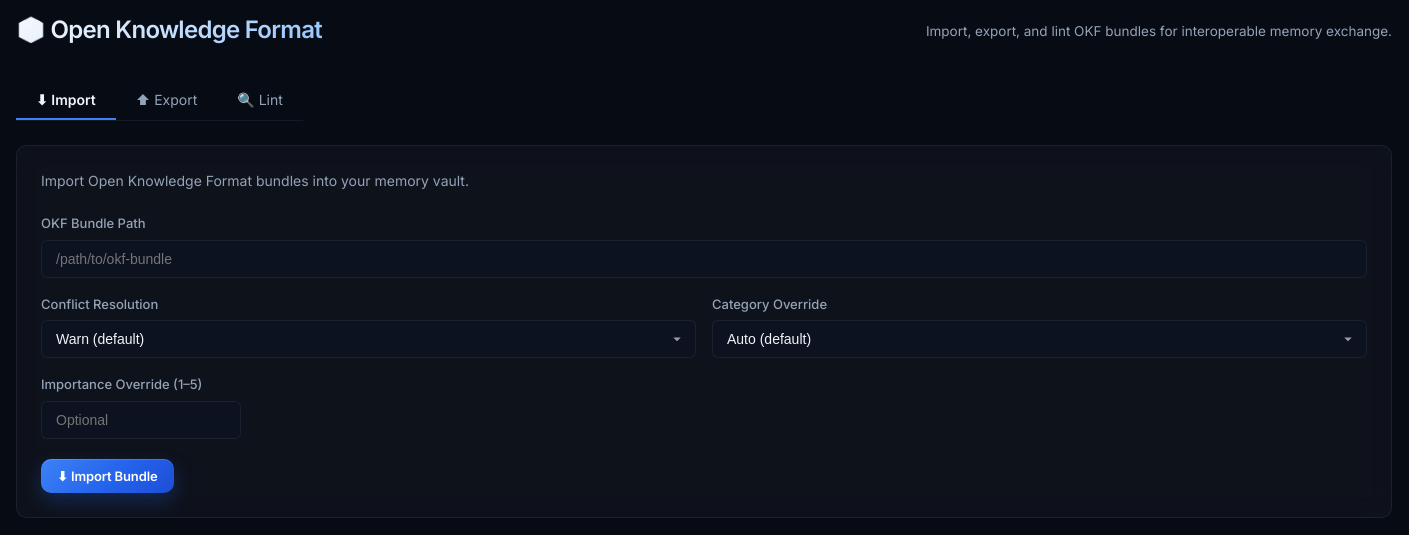
Test: OkfPage › switches to Lint tab and runs lint
The image size is (1409, 535).
What coordinates should you click on to do the following:
click the button "🔍 Lint"
I would click on:
 (260, 101)
Its box is [217, 81, 303, 120].
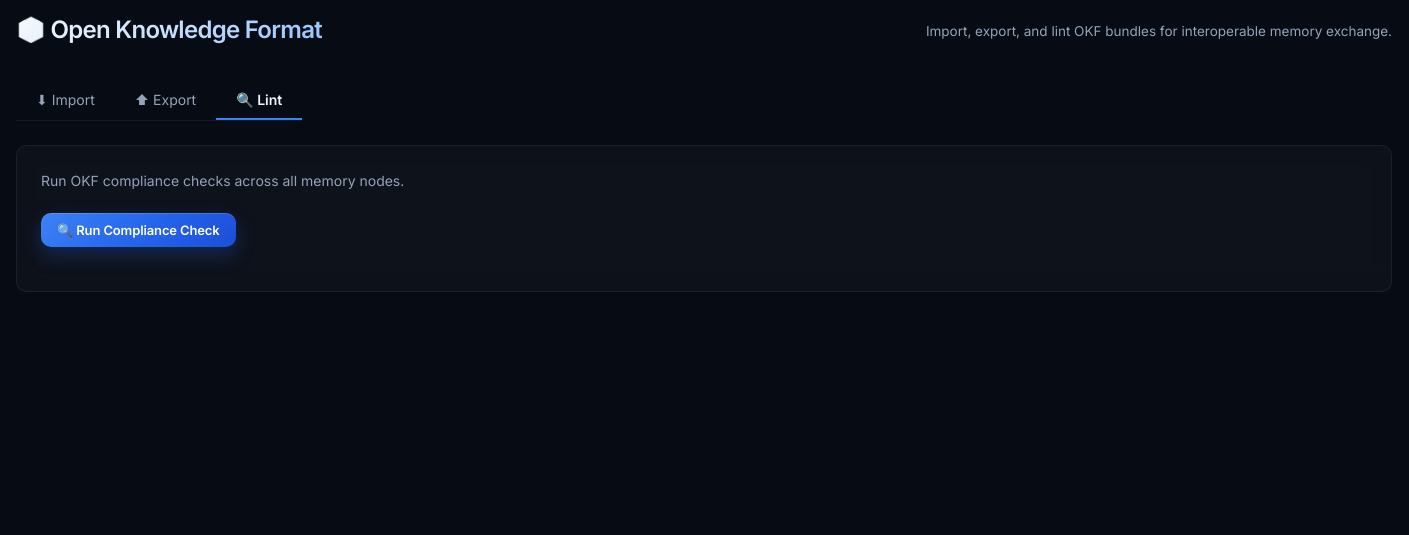
What coordinates should you click on to do the following:
click the button "🔍 Run Compliance Check"
I would click on:
 (138, 230)
Its box is [41, 213, 236, 247].
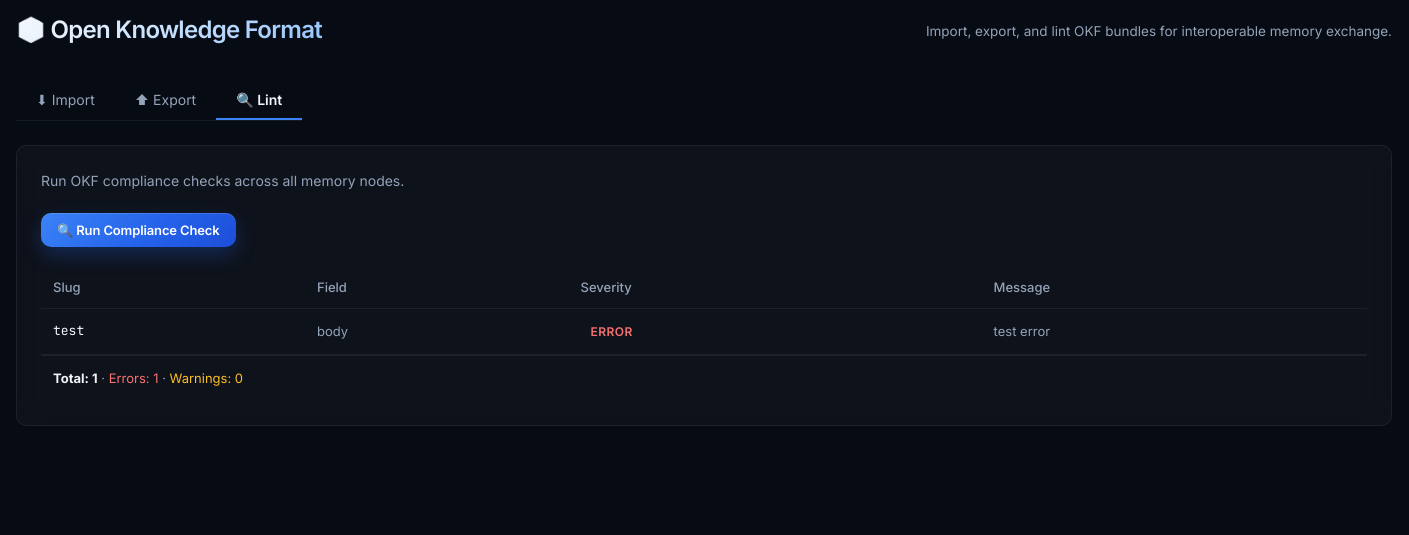
Check: the text "test error" is shown, box [982, 308, 1367, 355]
Check: the text "Errors: 1" is shown, box [109, 370, 158, 386]
